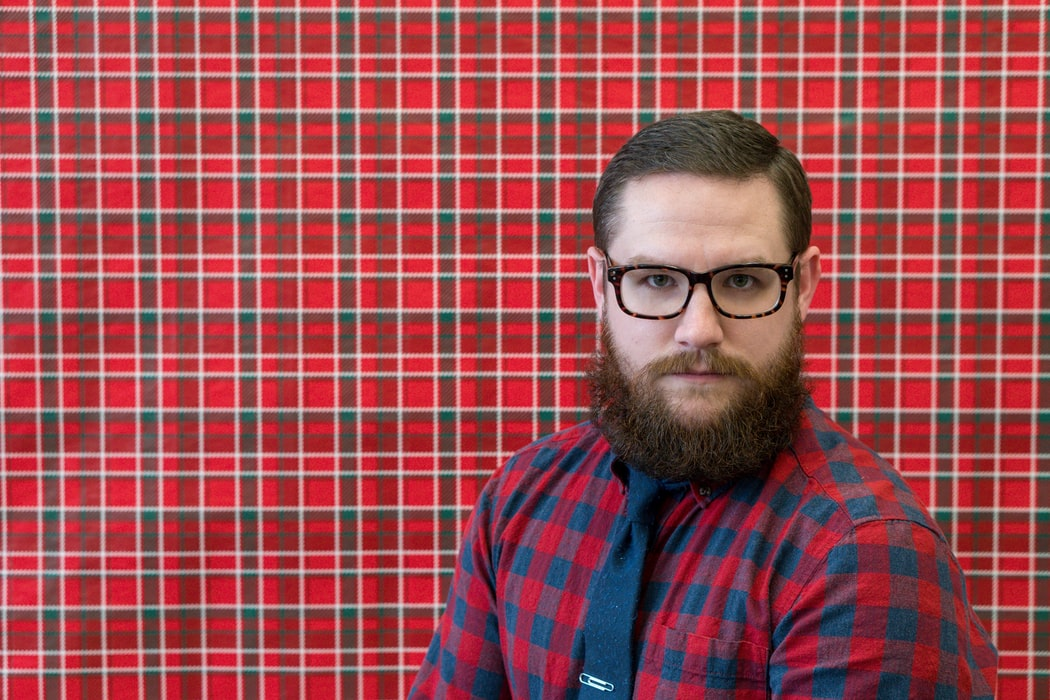beard: (594, 342, 813, 489)
glasses: (592, 256, 799, 326)
squared: (453, 415, 990, 692)
tie: (567, 459, 673, 689)
